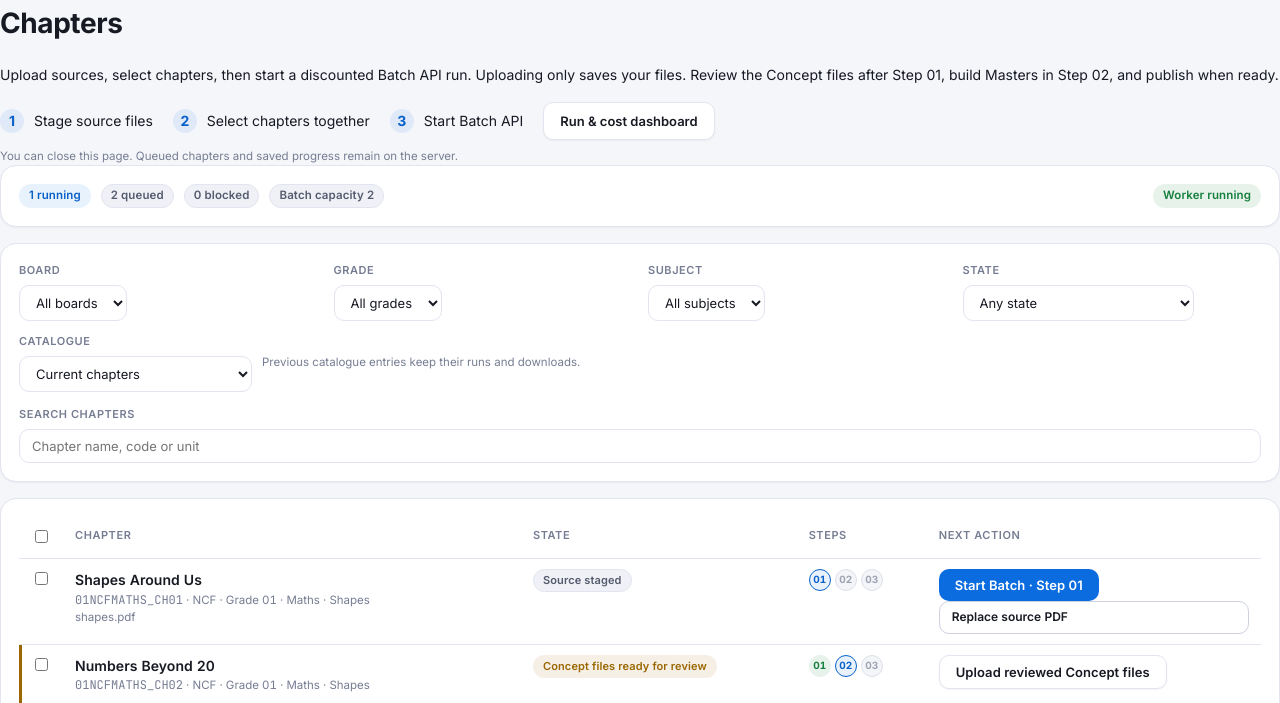
Test: a mixed push receipt renders all four verdicts with the server's reasons
The image size is (1280, 703).
Check: the button "Shapes Around Us" is shown, box [75,569,202,591]
What coordinates should you click on to do the following:
click the checkbox named "Select Shapes Around Us"
I would click on:
 (42, 578)
Its box is [35,572,48,585].
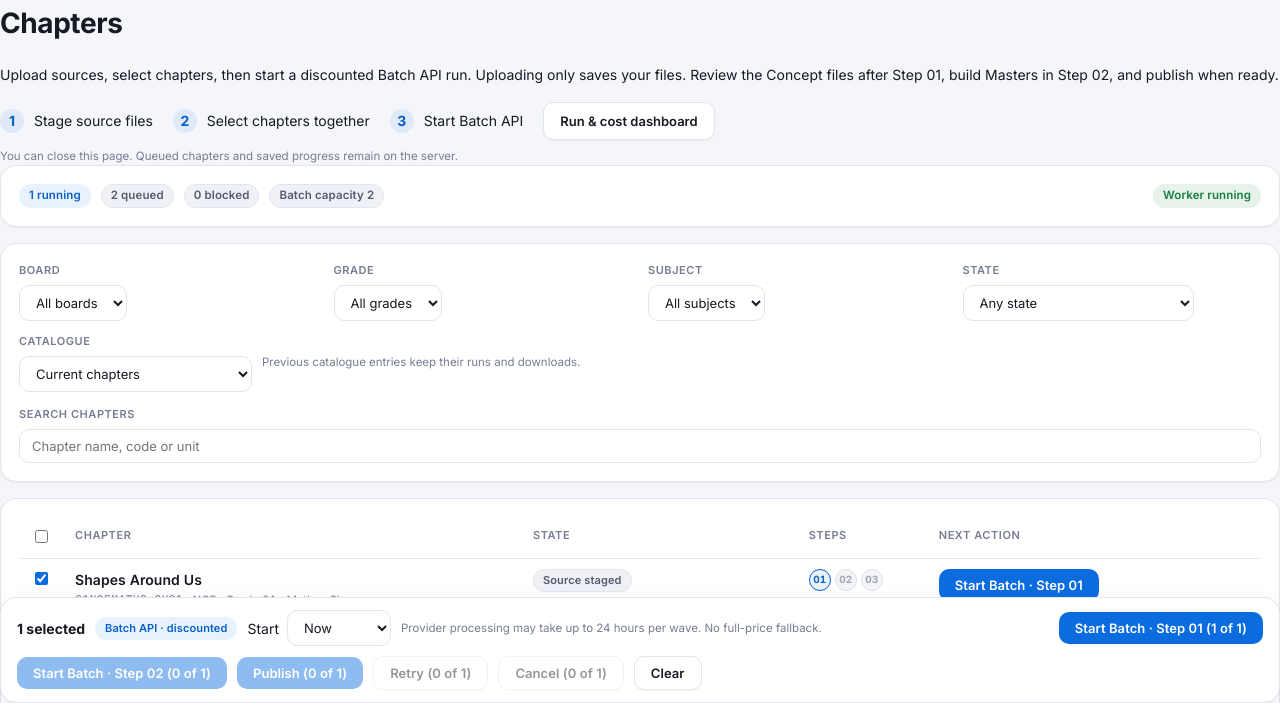
What coordinates should you click on to do the following:
click the button with test id "push-step01"
I would click on:
 (1161, 628)
Its box is [1059,612,1263,644].
(page scrolled)
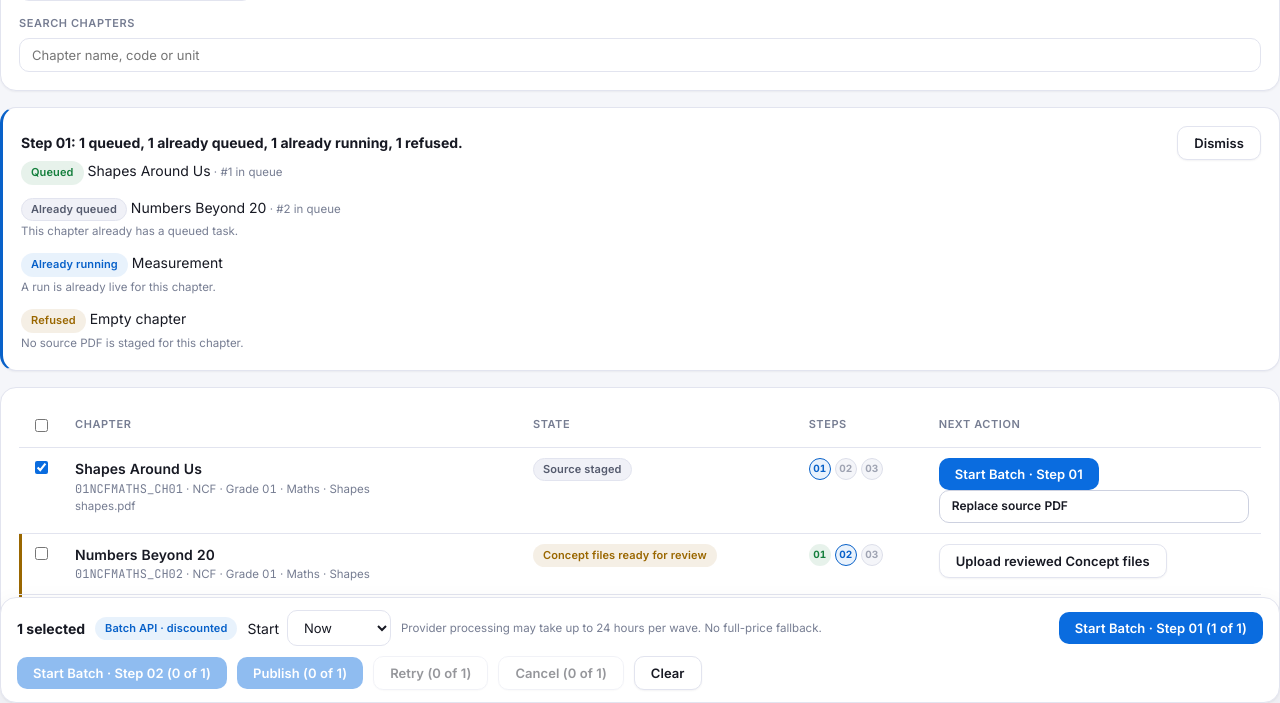
Check: the element with test id "chapter-push-receipt" is shown, box [0,107,1279,371]
Check: the text with test id "chapter-push-receipt-line" reads "Step 01: 1 queued, 1 already queued, 1 already running, 1 refused.", box [21,134,463,151]
Check: the text "No source PDF is staged for this chapter." is shown, box [21,336,244,350]
